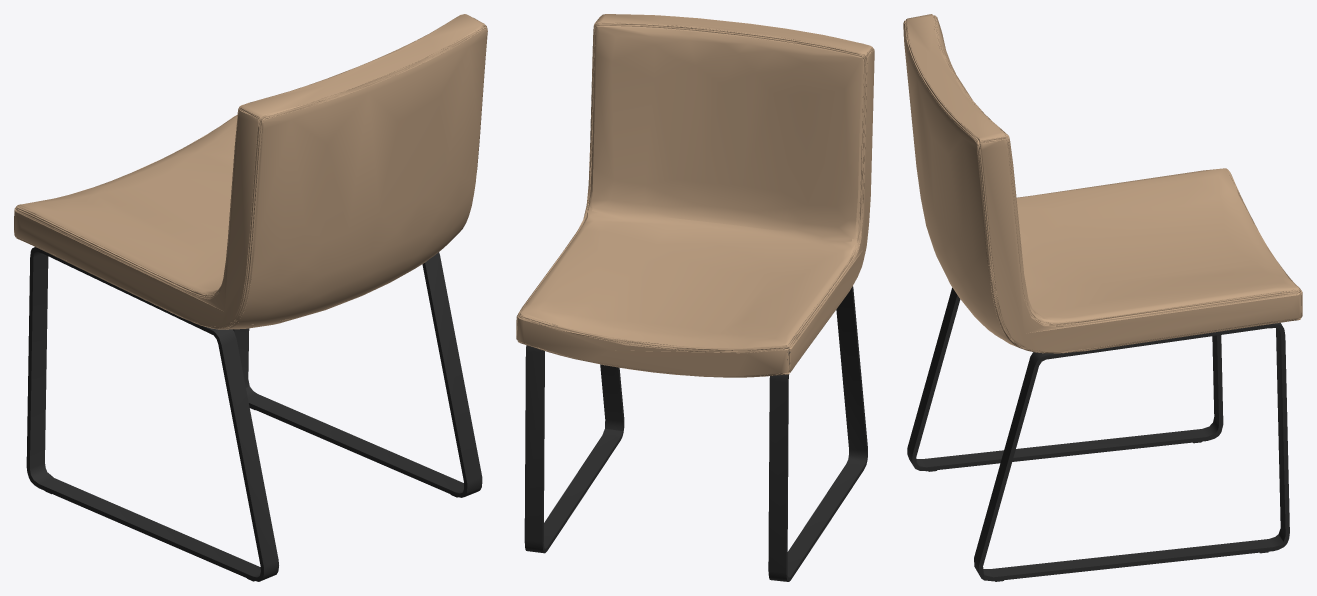
Rendered from NFG-I0016.glb.
3 renders of one model, left to right at view 1: azimuth 30°, elevation 25°; view 2: azimuth 150°, elevation 25°; view 3: azimuth 270°, elevation 25°, orthographic. The views are drawn at different scales.
Visible parts, largest first — view 1: Dinning Table with Chair; view 2: Dinning Table with Chair; view 3: Dinning Table with Chair.
Part boxes in pixels (bbox=[...]): Dinning Table with Chair: bbox=[14, 14, 487, 581]; Dinning Table with Chair: bbox=[516, 14, 874, 581]; Dinning Table with Chair: bbox=[903, 14, 1302, 581].
Size of the model in its own units: 1.51 by 2 by 1.61.
2 materials, 1 textured.
